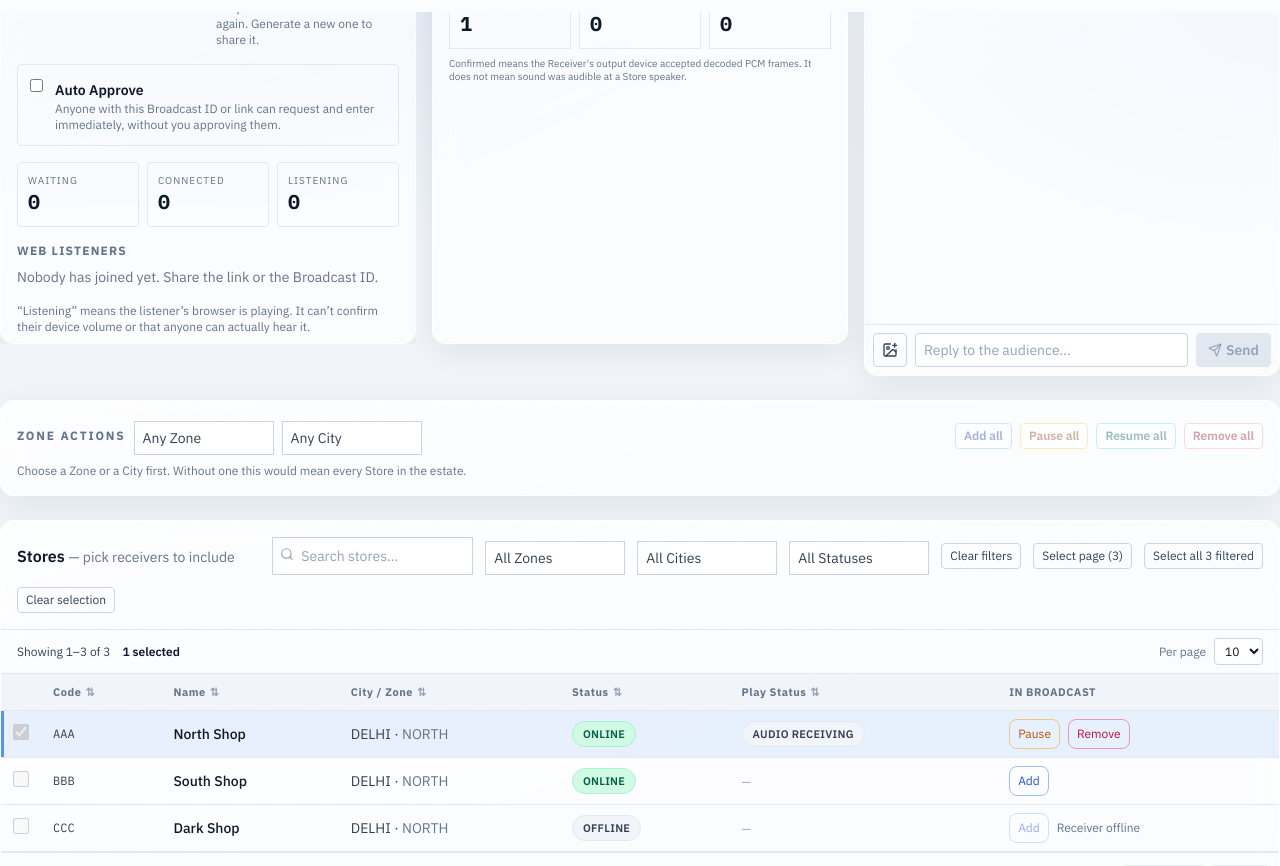
Test: a refusal is reported on the row, naming nothing else
(page scrolled)
Click the button with test id "add-store-BBB" at (1029, 781), box [1009, 766, 1049, 796]
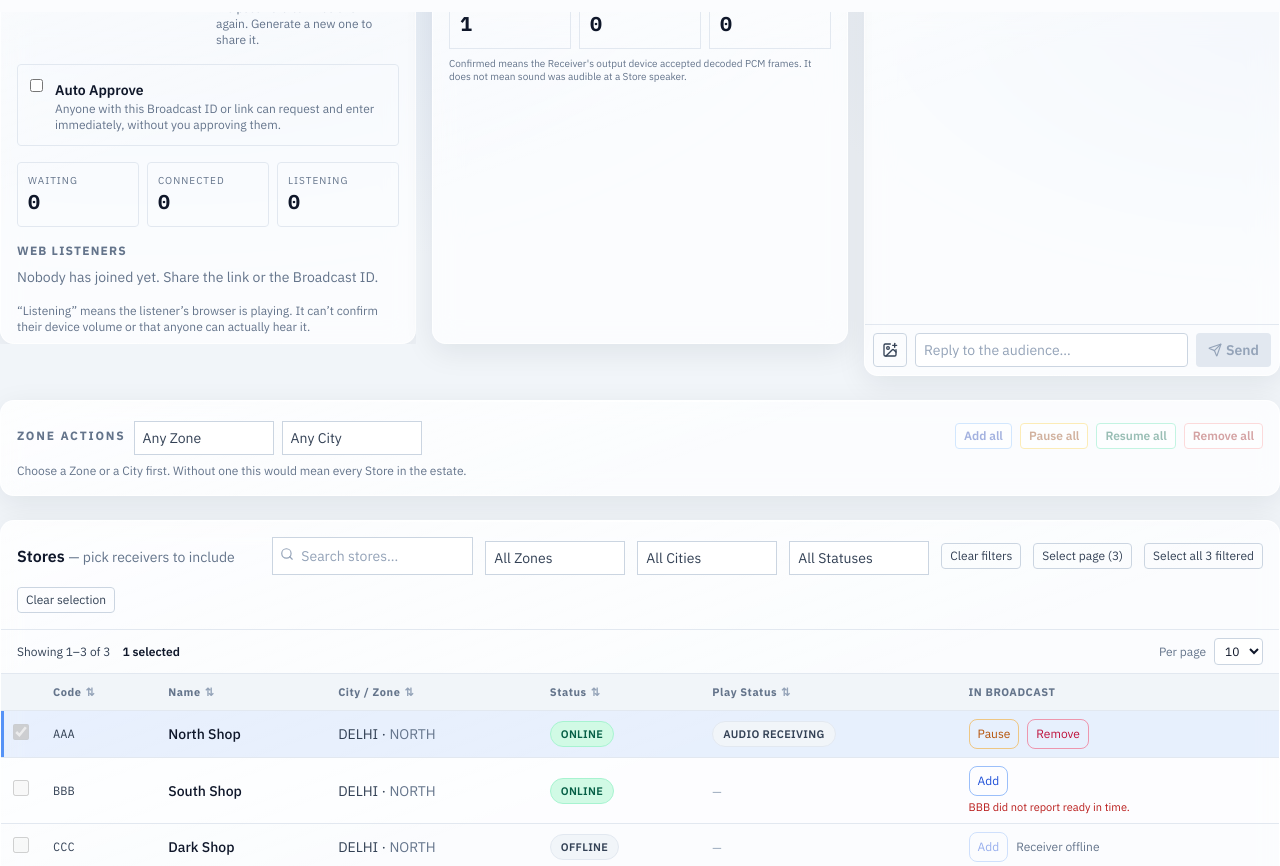
expect the message with test id "target-error-BBB" shows "did not report ready": met, box [968, 800, 1130, 814]
